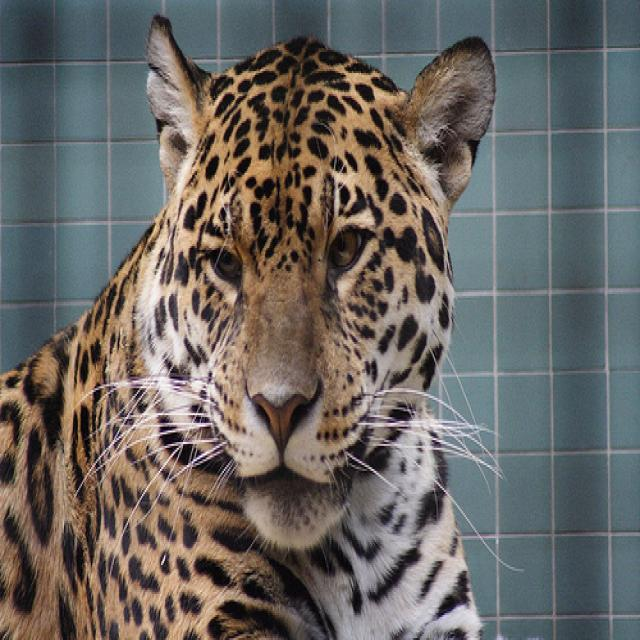Leopard: (0, 0, 500, 636)
